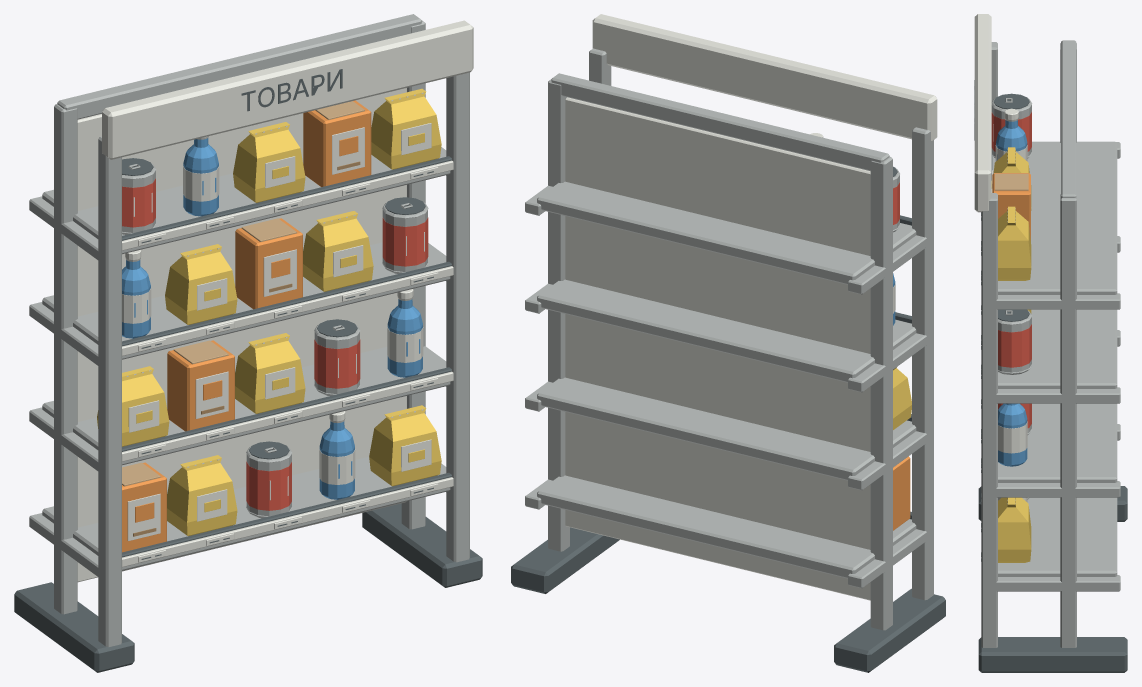
File: Shelf_Mixed.fbx
The picture shows the model from 3 angles, left to right: view 1: azimuth 30°, elevation 25°; view 2: azimuth 150°, elevation 25°; view 3: azimuth 270°, elevation 25°; orthographic projection. The views are drawn at different scales.
Visible parts, largest first — view 1: Shelf_Mixed__LPCXFER, Shelf_Mixed__Back_metal__LPCXFER, Shelf_Mixed__Header_metal__LPCXFER, Shelf_Mixed__Shelf_1__LPCXFER, Shelf_Mixed__Shelf_4__LPCXFER, Shelf_Mixed__Shelf_2__LPCXFER, Shelf_Mixed__Shelf_3__LPCXFER, Shelf_Mixed_Item_2_F_2_box__LPCXFER, Shelf_Mixed_Item_3_F_3_box__LPCXFER, Shelf_Mixed_Item_4_F_4_box__LPCXFER, Shelf_Mixed_Item_4_F_3_bag__LPCXFER, Shelf_Mixed_Item_1_F_5_bag__LPCXFER (+16 smaller); view 2: Shelf_Mixed__Back_metal__LPCXFER, Shelf_Mixed__LPCXFER, Shelf_Mixed__Header_metal__LPCXFER, Shelf_Mixed__Shelf_3__LPCXFER, Shelf_Mixed__Shelf_4__LPCXFER, Shelf_Mixed__Shelf_2__LPCXFER, Shelf_Mixed__Shelf_1__LPCXFER, Shelf_Mixed_Item_1_F_1_box__LPCXFER, Shelf_Mixed_Item_2_F_1_bag__LPCXFER; view 3: Shelf_Mixed__LPCXFER, Shelf_Mixed__Shelf_4__LPCXFER, Shelf_Mixed__Shelf_2__LPCXFER, Shelf_Mixed__Shelf_1__LPCXFER, Shelf_Mixed__Shelf_3__LPCXFER, Shelf_Mixed__Header_metal__LPCXFER, Shelf_Mixed_Item_4_F_5_bag__LPCXFER, Shelf_Mixed_Item_3_F_5_can__LPCXFER, Shelf_Mixed_Item_1_F_5_bag__LPCXFER, Shelf_Mixed_Item_2_F_5_bottle__LPCXFER, Shelf_Mixed_Item_4_F_4_box__LPCXFER, Shelf_Mixed_Item_4_F_1_can__LPCXFER (+2 smaller).
Part boxes in pixels (<box>): Shelf_Mixed__LPCXFER: <box>14,14,482,672</box>; Shelf_Mixed__Back_metal__LPCXFER: <box>77,88,406,582</box>; Shelf_Mixed__Header_metal__LPCXFER: <box>102,20,473,159</box>; Shelf_Mixed__Shelf_1__LPCXFER: <box>42,456,453,570</box>; Shelf_Mixed__Shelf_4__LPCXFER: <box>42,152,453,254</box>; Shelf_Mixed__Shelf_2__LPCXFER: <box>42,347,453,465</box>; Shelf_Mixed__Shelf_3__LPCXFER: <box>42,242,453,359</box>; Shelf_Mixed_Item_2_F_2_box__LPCXFER: <box>167,340,234,431</box>; Shelf_Mixed_Item_3_F_3_box__LPCXFER: <box>235,218,302,309</box>; Shelf_Mixed_Item_4_F_4_box__LPCXFER: <box>303,100,371,186</box>; Shelf_Mixed_Item_4_F_3_bag__LPCXFER: <box>233,122,305,202</box>; Shelf_Mixed_Item_1_F_5_bag__LPCXFER: <box>369,405,441,486</box>; Shelf_Mixed__Back_metal__LPCXFER: <box>565,97,870,600</box>; Shelf_Mixed__LPCXFER: <box>511,48,945,672</box>; Shelf_Mixed__Header_metal__LPCXFER: <box>592,14,937,141</box>; Shelf_Mixed__Shelf_3__LPCXFER: <box>537,279,916,382</box>; Shelf_Mixed__Shelf_4__LPCXFER: <box>537,181,916,284</box>; Shelf_Mixed__Shelf_2__LPCXFER: <box>537,377,916,480</box>; Shelf_Mixed__Shelf_1__LPCXFER: <box>537,475,916,578</box>; Shelf_Mixed_Item_1_F_1_box__LPCXFER: <box>893,456,910,530</box>; Shelf_Mixed_Item_2_F_1_bag__LPCXFER: <box>893,367,911,429</box>; Shelf_Mixed__LPCXFER: <box>978,40,1127,672</box>; Shelf_Mixed__Shelf_4__LPCXFER: <box>981,141,1117,294</box>; Shelf_Mixed__Shelf_2__LPCXFER: <box>981,340,1117,482</box>; Shelf_Mixed__Shelf_1__LPCXFER: <box>981,434,1117,576</box>; Shelf_Mixed__Shelf_3__LPCXFER: <box>981,246,1117,388</box>; Shelf_Mixed__Header_metal__LPCXFER: <box>974,14,991,212</box>; Shelf_Mixed_Item_4_F_5_bag__LPCXFER: <box>998,206,1031,280</box>; Shelf_Mixed_Item_3_F_5_can__LPCXFER: <box>998,309,1032,374</box>; Shelf_Mixed_Item_1_F_5_bag__LPCXFER: <box>998,497,1031,562</box>; Shelf_Mixed_Item_2_F_5_bottle__LPCXFER: <box>998,403,1027,466</box>; Shelf_Mixed_Item_4_F_4_box__LPCXFER: <box>991,173,1030,240</box>; Shelf_Mixed_Item_4_F_1_can__LPCXFER: <box>991,93,1032,158</box>.
Bounding box in the file's own units: 154 × 212 × 59.15.
